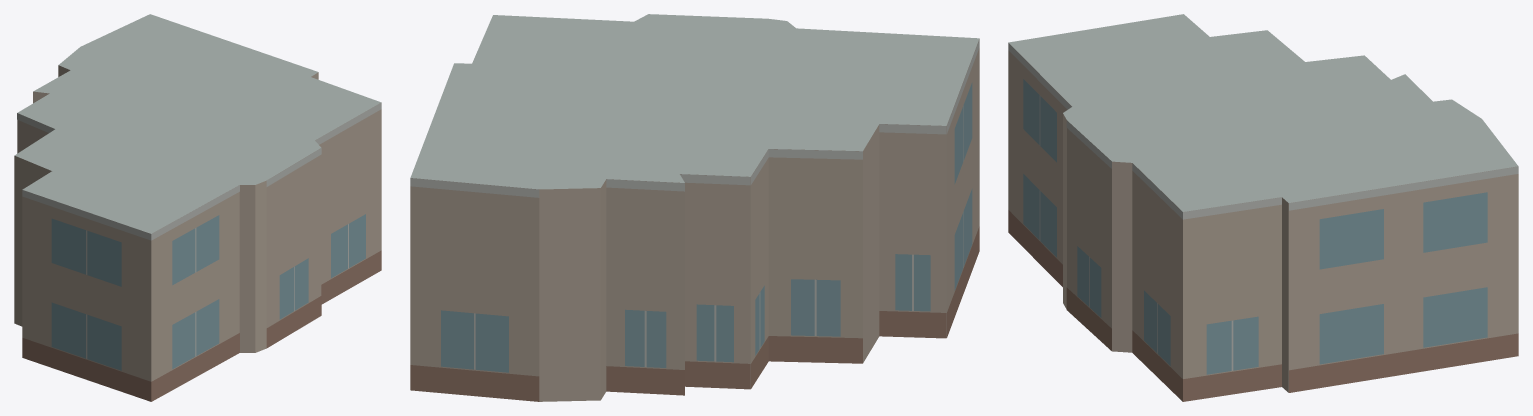
File: survey-upis-32611294.glb
3 views of the same model, side by side, from view 1: azimuth 30°, elevation 25°; view 2: azimuth 150°, elevation 25°; view 3: azimuth 270°, elevation 25° (orthographic). The views are drawn at different scales.
Parts seen in each view (by area): view 1: survey-upis-32611294.tmp; view 2: survey-upis-32611294.tmp; view 3: survey-upis-32611294.tmp.
Part boxes in pixels (left/top/right/bottom): survey-upis-32611294.tmp: left=14, top=14, right=381, bottom=401; survey-upis-32611294.tmp: left=410, top=14, right=979, bottom=401; survey-upis-32611294.tmp: left=1008, top=14, right=1518, bottom=401.
Size of the model in its own units: 13.65 by 6.1 by 14.86.
